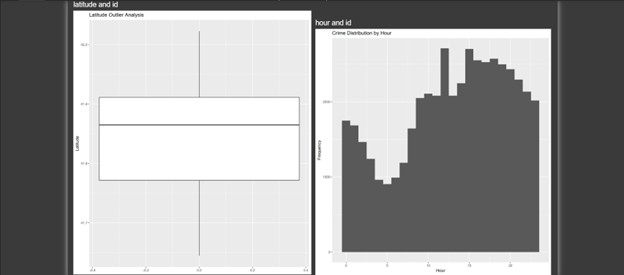

What the dashboard file says about the page in this screenshot:
{"tool":"powerbi","page":{"name":"Page 2","canvas":[1280,720],"ordinal":1},"visuals":[{"type":"scriptVisual","fields":{"Values":["chicago_crime_clean.latitude","chicago_crime_clean.id"]},"box":[10.1,0,631.1,718.9],"z":0},{"type":"scriptVisual","fields":{"Values":["chicago_crime_clean.hour","chicago_crime_clean.id"]},"box":[641.5,46.7,625.4,673.9],"z":1}]}

Visuals, with their boxes on the page's 1280x720 design canvas (x1, y1, x2, y2). These are canvas units, not pixel positions in the 624x275 screenshot, which may show the page scaled, cropped or inside an application window:
scriptVisual - chicago_crime_clean.latitude x chicago_crime_clean.id: bbox=(10, 0, 641, 719)
scriptVisual - chicago_crime_clean.hour x chicago_crime_clean.id: bbox=(642, 47, 1267, 721)
